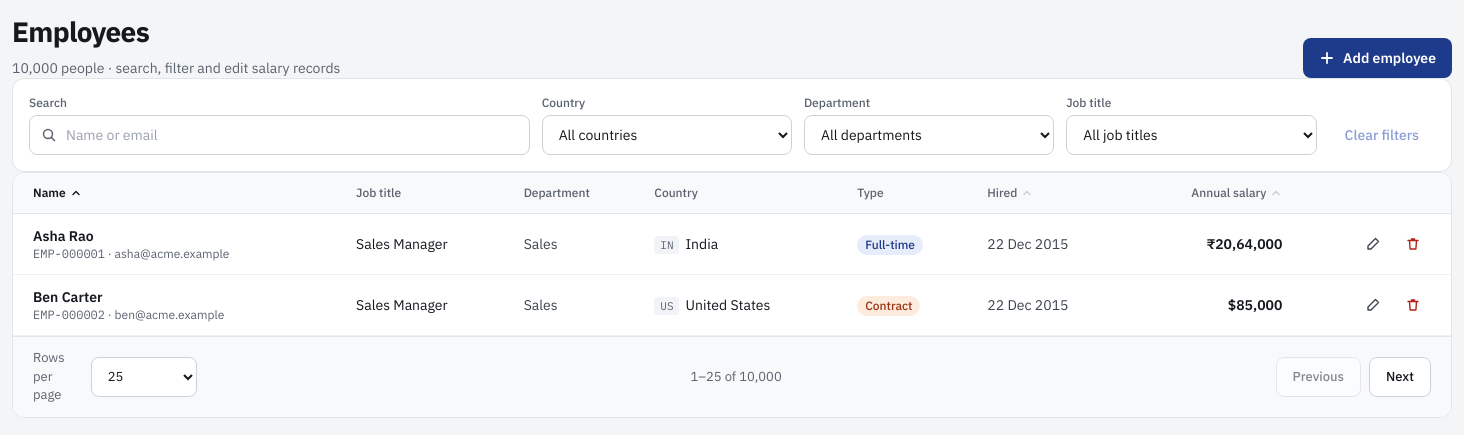
Test: EmployeesPage › moves to the next page
Check: the row "Asha Rao" is shown, box [13,214,1451,274]
Click the button "Next": [1400, 377] box [1369,357,1431,397]
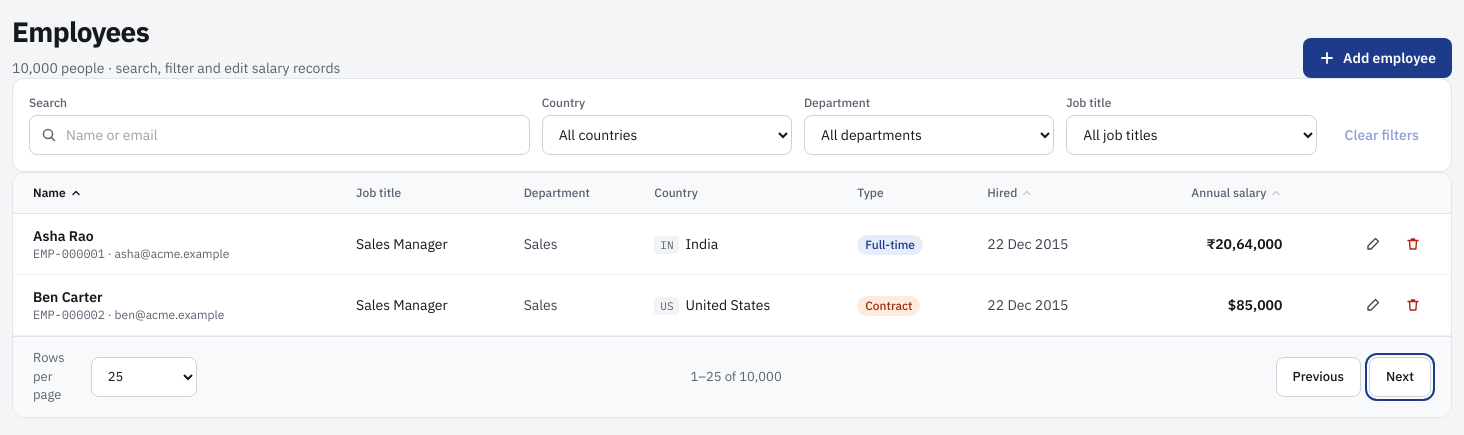
Check: the button "Previous" is enabled, box [1276,357,1361,397]
